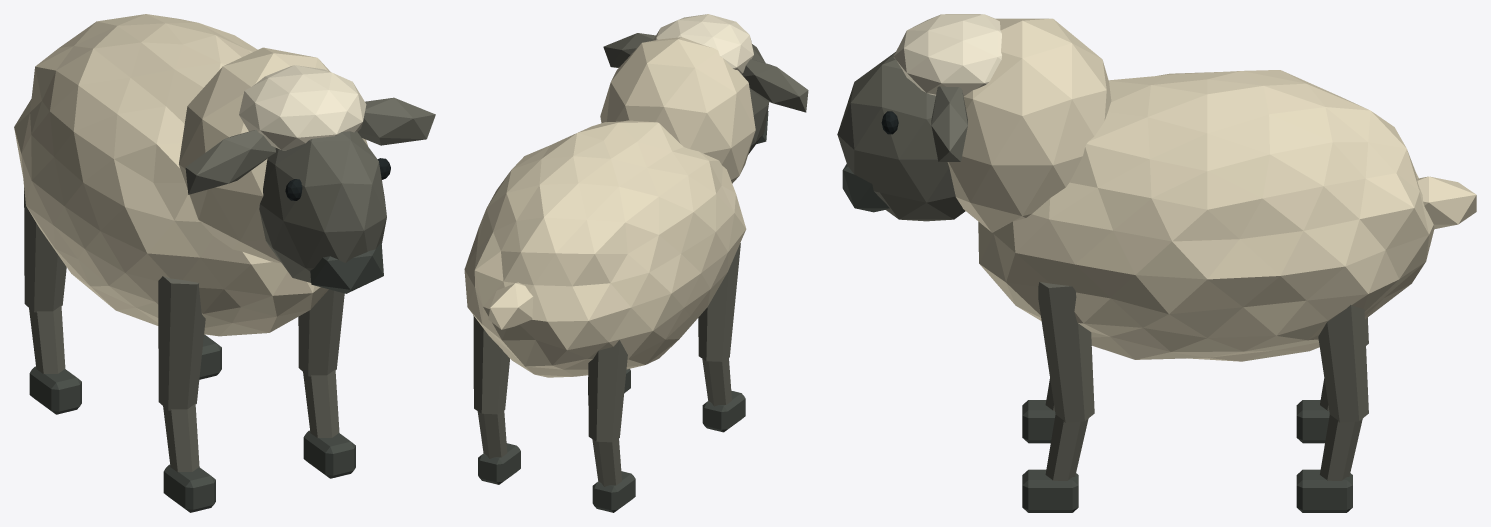
File: sheep.glb
The picture shows the model from 3 angles, left to right: view 1: azimuth 30°, elevation 25°; view 2: azimuth 150°, elevation 25°; view 3: azimuth 270°, elevation 25°; orthographic projection. The views are drawn at different scales.
Visible parts, largest first — view 1: Static_mesh, Head_mesh; view 2: Static_mesh, Head_mesh, Tail_mesh; view 3: Static_mesh, Head_mesh, Tail_mesh.
Boxes of the visible parts, x1,y1,x2,y2 form: Static_mesh: (14, 14, 355, 512); Head_mesh: (179, 47, 435, 293); Static_mesh: (464, 120, 746, 512); Head_mesh: (600, 14, 808, 183); Tail_mesh: (488, 282, 533, 329); Static_mesh: (978, 70, 1434, 512); Head_mesh: (837, 14, 1111, 232); Tail_mesh: (1417, 176, 1476, 229).
Size of the model in its own units: 0.8905 by 1.51 by 1.93.
